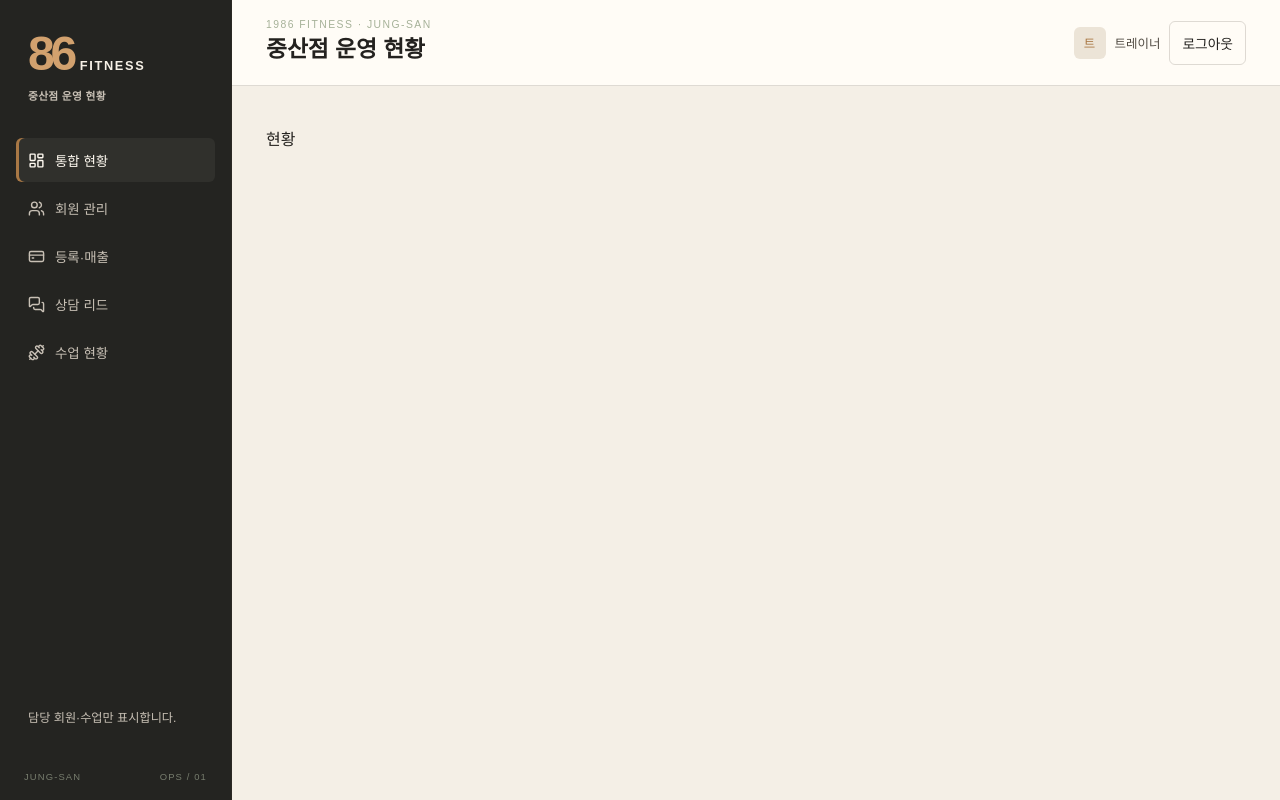
shows logout failure without navigating and allows retry
Step 1. Click the button "로그아웃" → (1208, 42), box [1169, 20, 1246, 64]
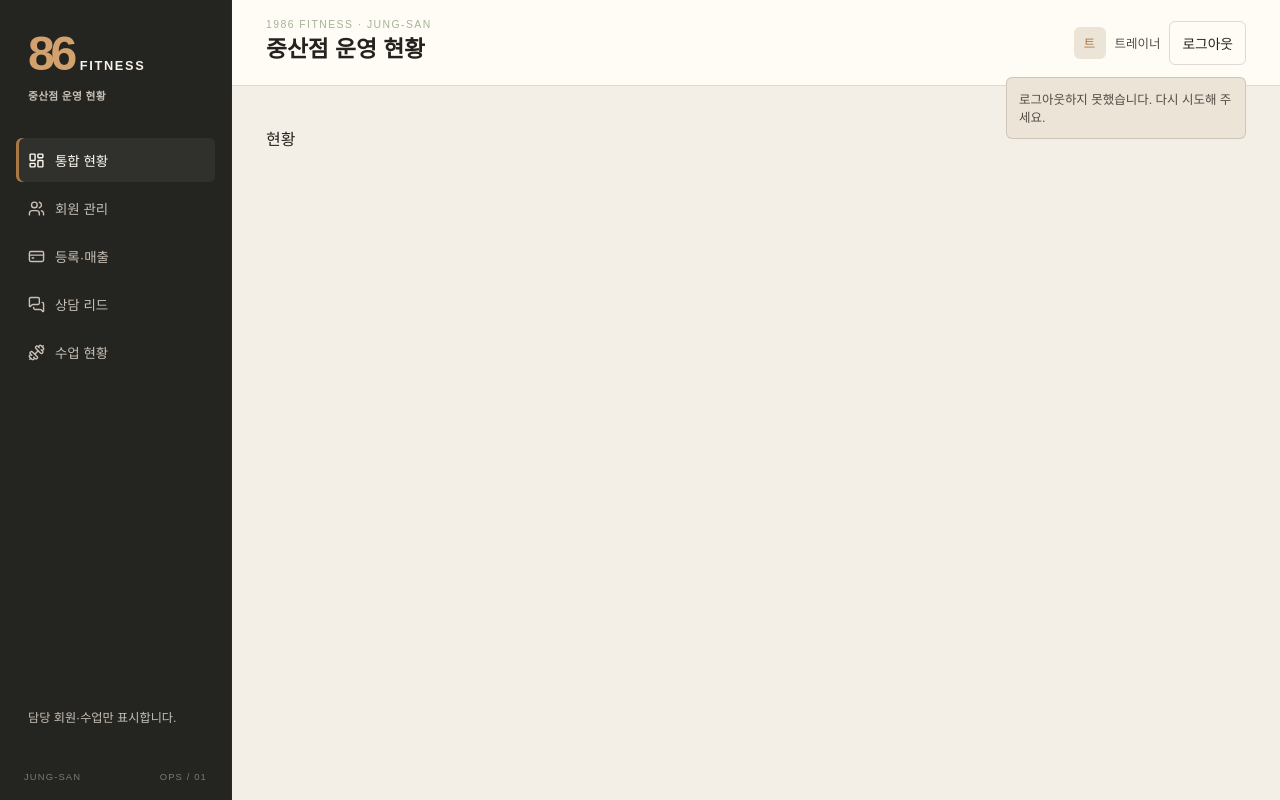
Result: the message shows "다시 시도" at [1019, 93, 1231, 125]
